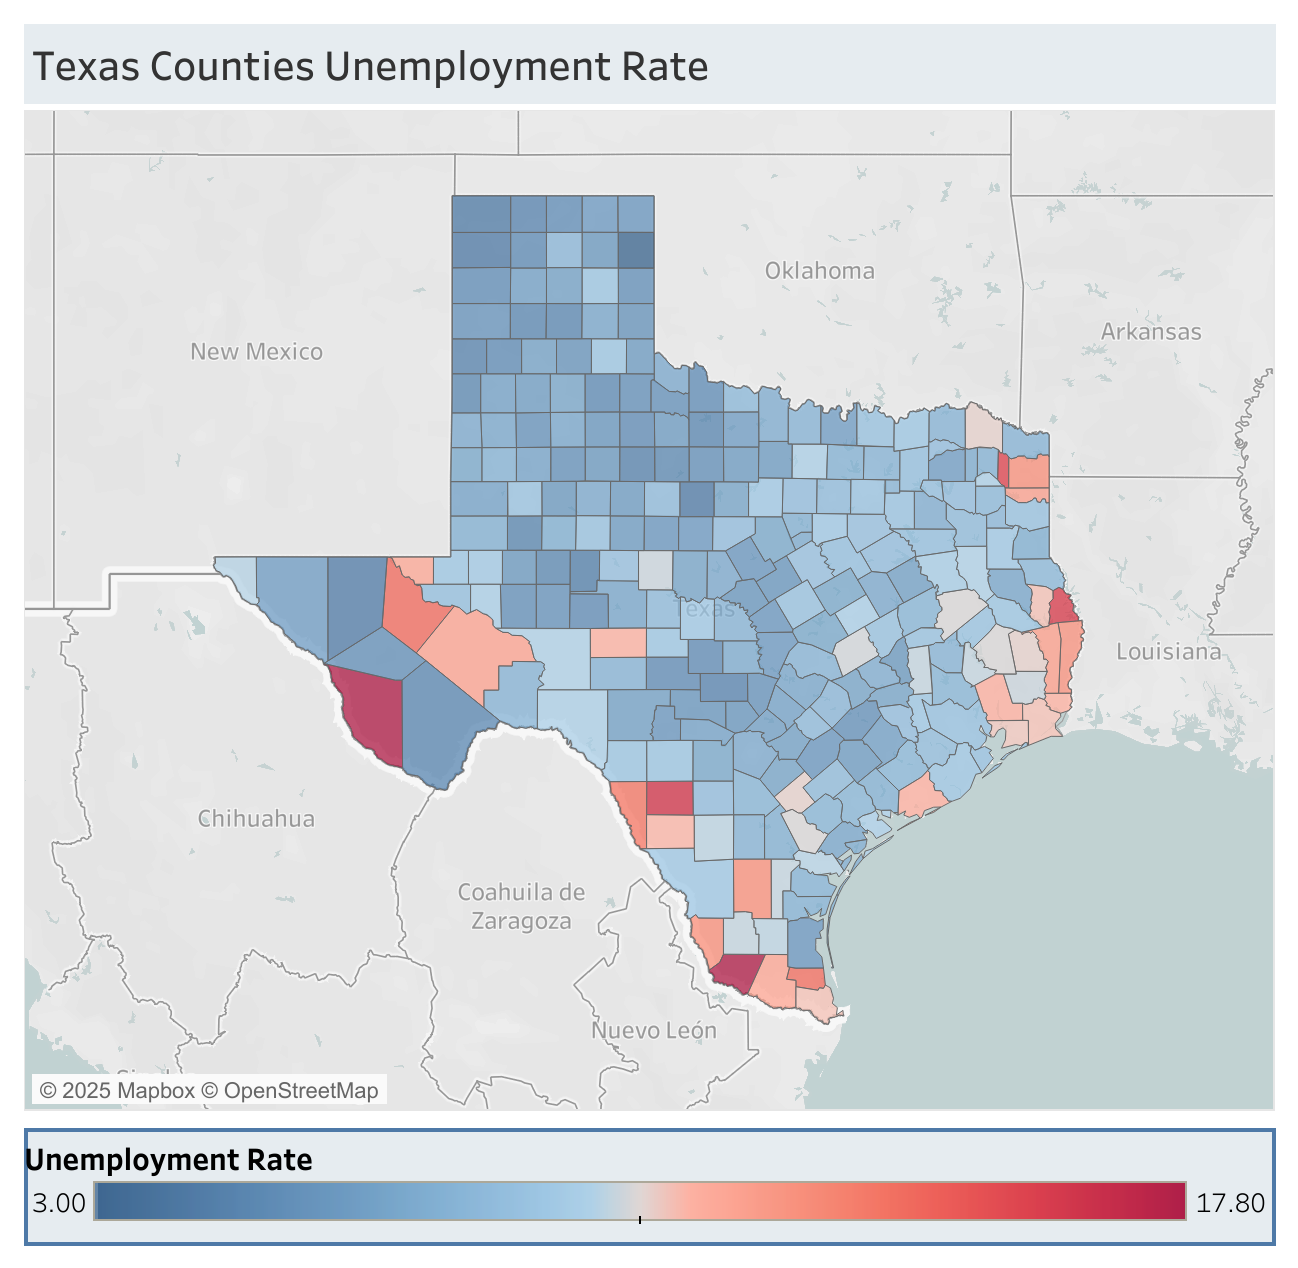

What the dashboard file says about the page in this screenshot:
{"tool":"tableau","page":{"name":"Dashboard 1","canvas":[650,860],"ordinal":0},"visuals":[{"type":"worksheet","title":"Chloropleth Map","mark":"Multipolygon","box":[8,9.9,634,749.1]},{"type":"legend","title":"Chloropleth Map","param":"[federated.0rpwk110466z3r1ewh2oa03ir02g].[sum:unemp:qk]","box":[8,759,634,91.2]}]}

Visuals, with their boxes on the page's 650x860 design canvas (x1, y1, x2, y2). These are canvas units, not pixel positions in the 1298x1268 screenshot, which may show the page scaled, cropped or inside an application window:
"Chloropleth Map" worksheet (Multipolygon marks): {"left": 8, "top": 10, "right": 642, "bottom": 759}
"Chloropleth Map" legend: {"left": 8, "top": 759, "right": 642, "bottom": 850}
